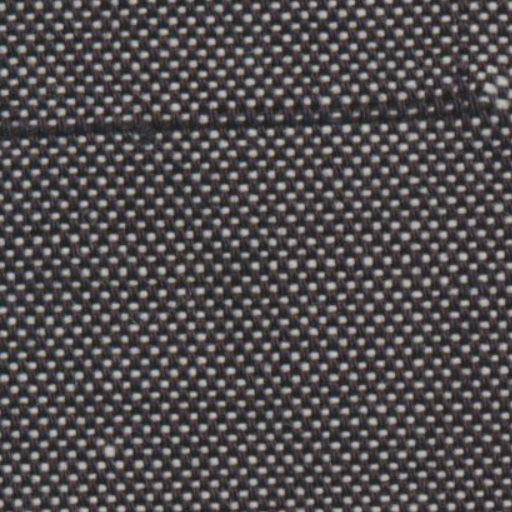DaiSha: (13, 86, 484, 146)
